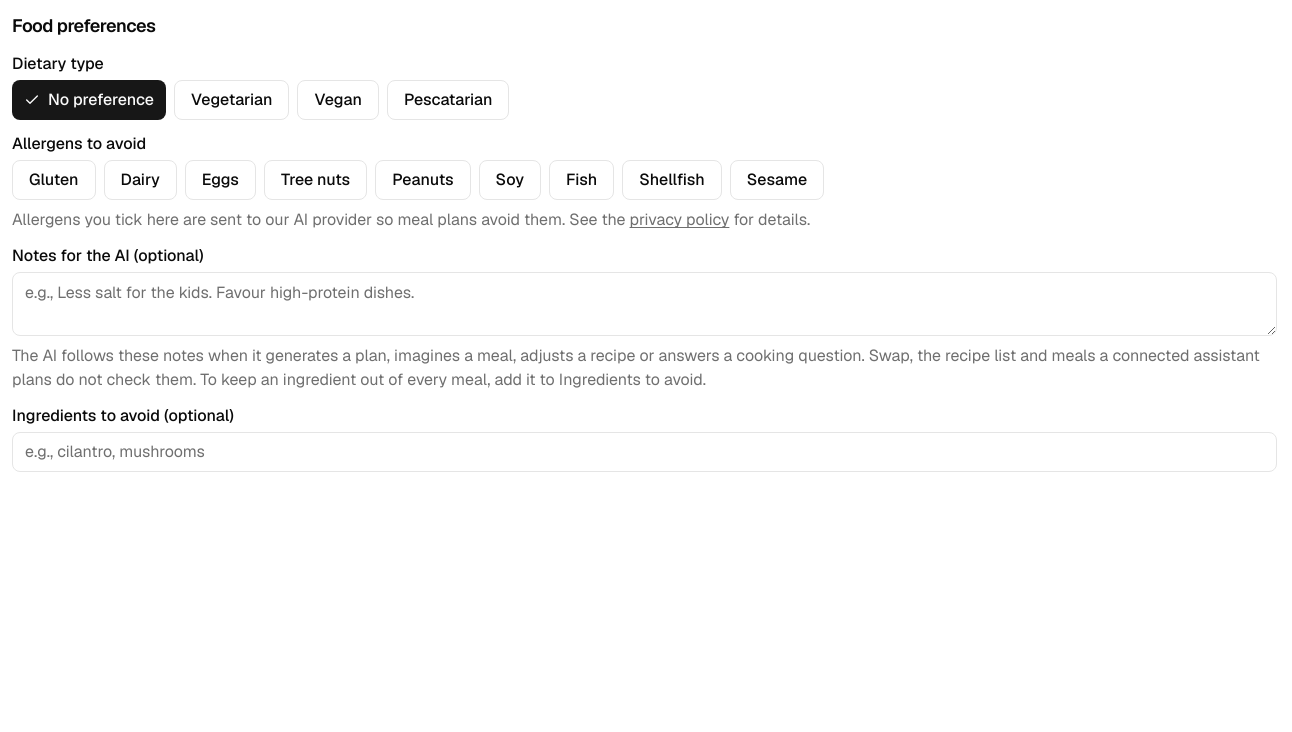
Test: FoodPreferencesForm › food preferences › sends text typed into the tag input but not yet added
Click the button "Gluten" at coordinates (54, 180), box [12,160,96,200]
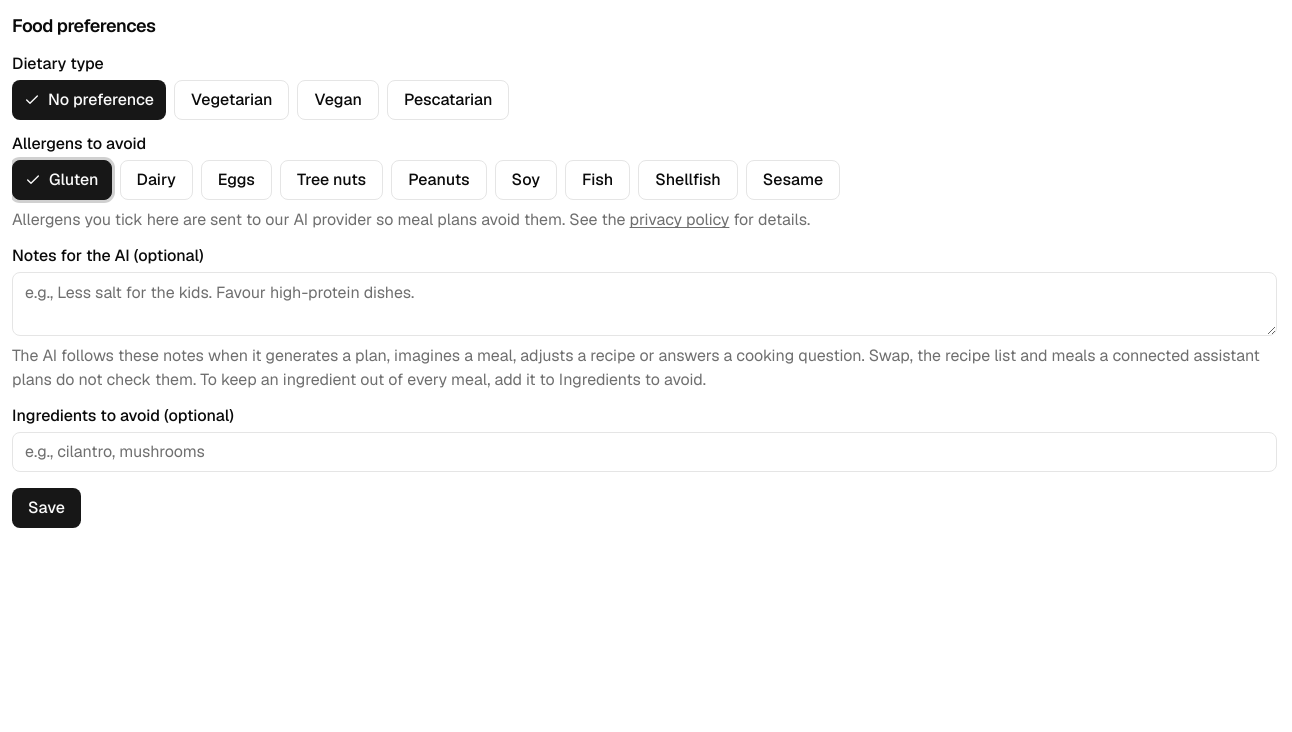
Type "cilantro" into the field labelled "Ingredients to avoid (optional)" at coordinates (644, 452), box [25,439,1264,465]
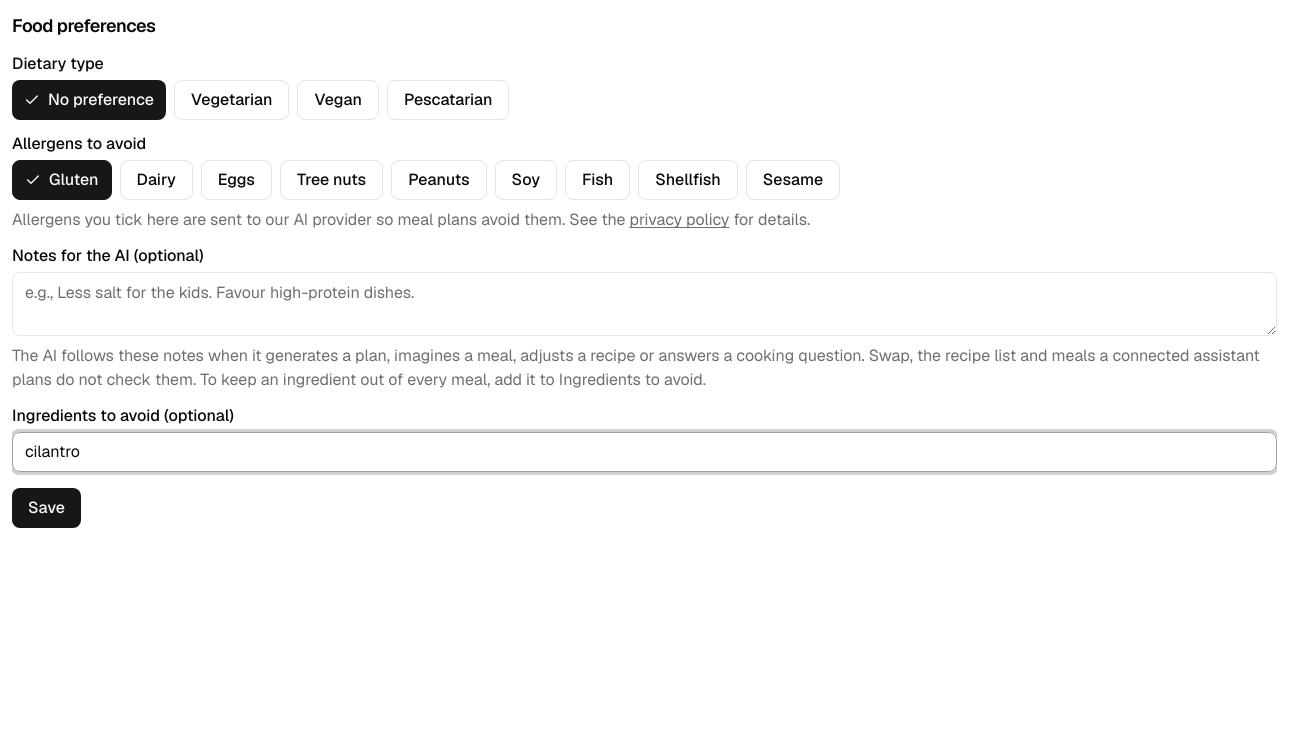
Submit the form "Food preferences"
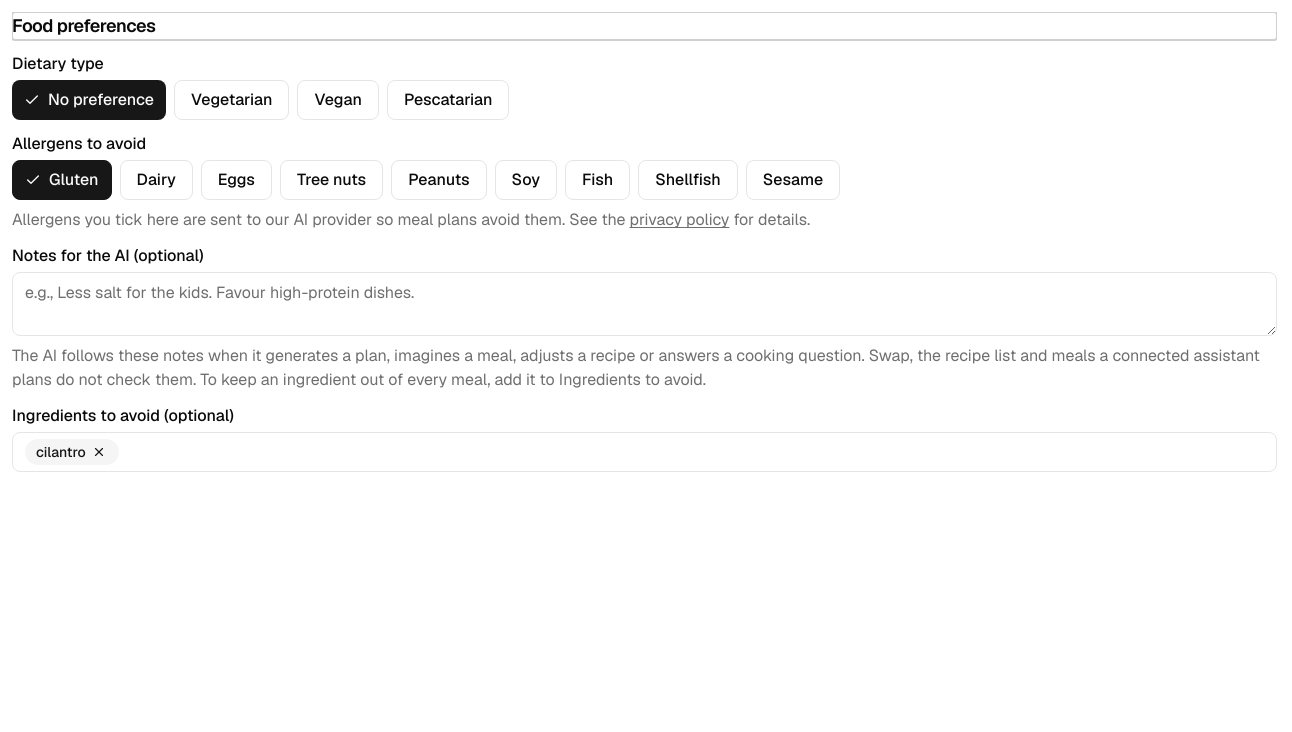
Result: the button "Save" is gone
